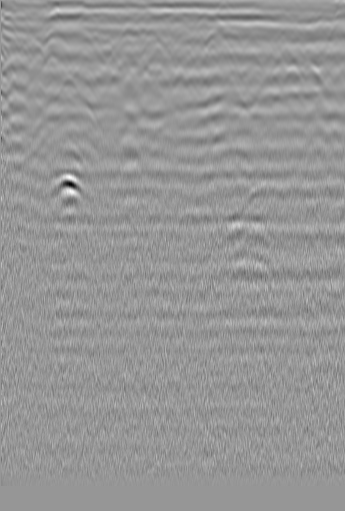가스: (37, 172, 91, 204)
상수: (292, 37, 312, 57)
오수: (19, 32, 39, 52)
우수: (148, 30, 168, 50)
